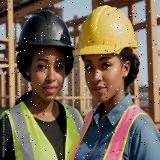Helmet: (74, 5, 138, 55), (14, 9, 76, 51)
Vest: (0, 100, 84, 159), (71, 105, 156, 160)
